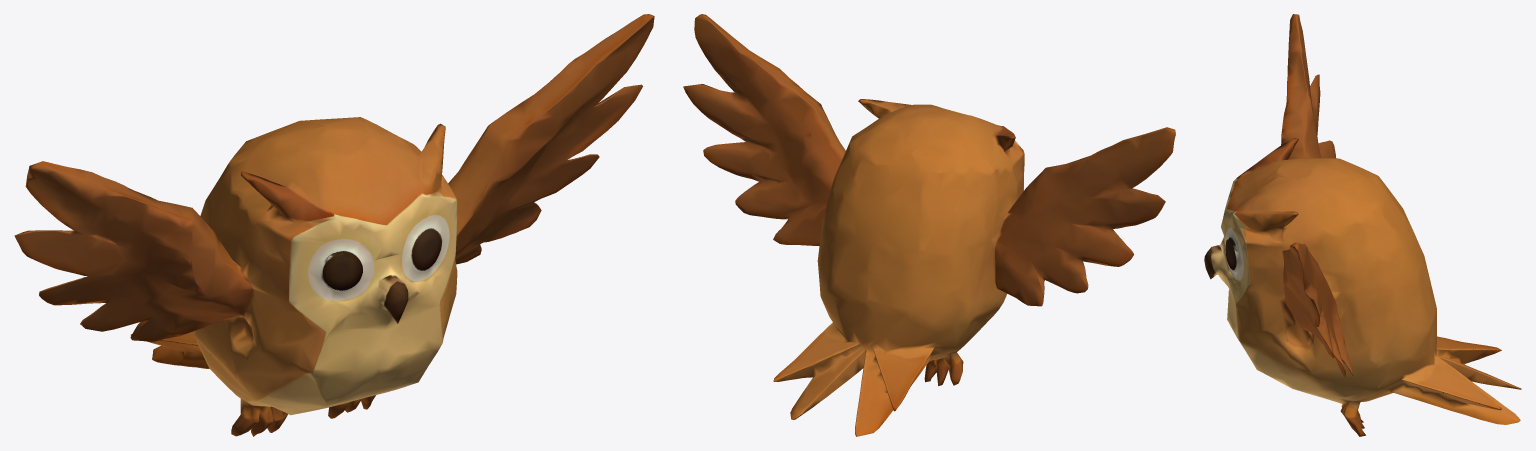
File: owl.glb
3 views of the same model, side by side, from view 1: azimuth 30°, elevation 25°; view 2: azimuth 150°, elevation 25°; view 3: azimuth 270°, elevation 25° (orthographic). The views are drawn at different scales.
Visible parts, largest first — view 1: tripo_node_5bbd3674-cf67-4a4a-955c-8b56ad95b132; view 2: tripo_node_5bbd3674-cf67-4a4a-955c-8b56ad95b132; view 3: tripo_node_5bbd3674-cf67-4a4a-955c-8b56ad95b132.
Part boxes in pixels (x1=…): tripo_node_5bbd3674-cf67-4a4a-955c-8b56ad95b132: x1=14, y1=14, x2=654, y2=436; tripo_node_5bbd3674-cf67-4a4a-955c-8b56ad95b132: x1=683, y1=14, x2=1175, y2=436; tripo_node_5bbd3674-cf67-4a4a-955c-8b56ad95b132: x1=1204, y1=14, x2=1521, y2=436.
Size of the model in its own units: 1 by 0.5595 by 0.5673.
1 material, 1 textured.
